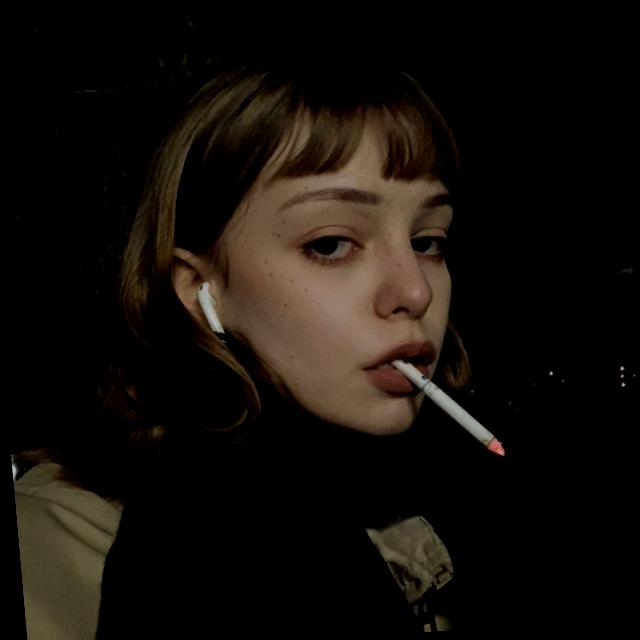cigarette: (386, 326, 538, 468)
